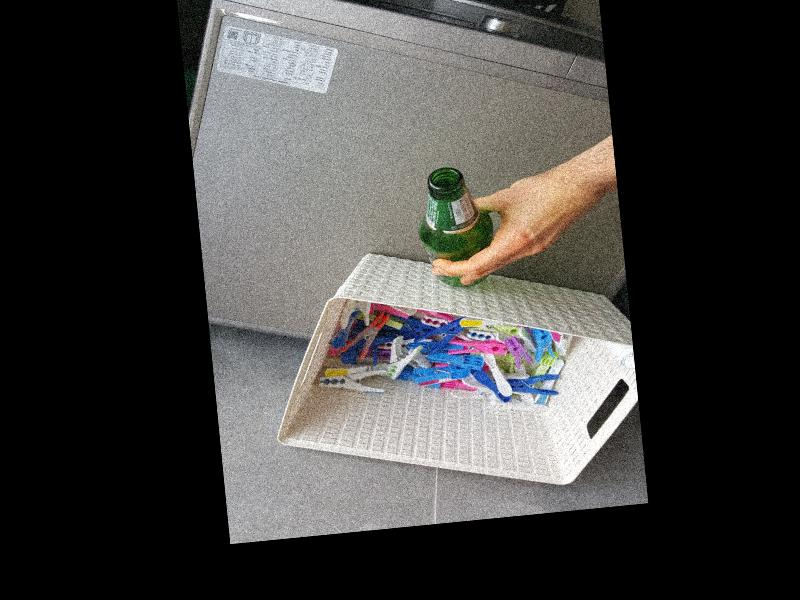Beer: (412, 163, 497, 290)
